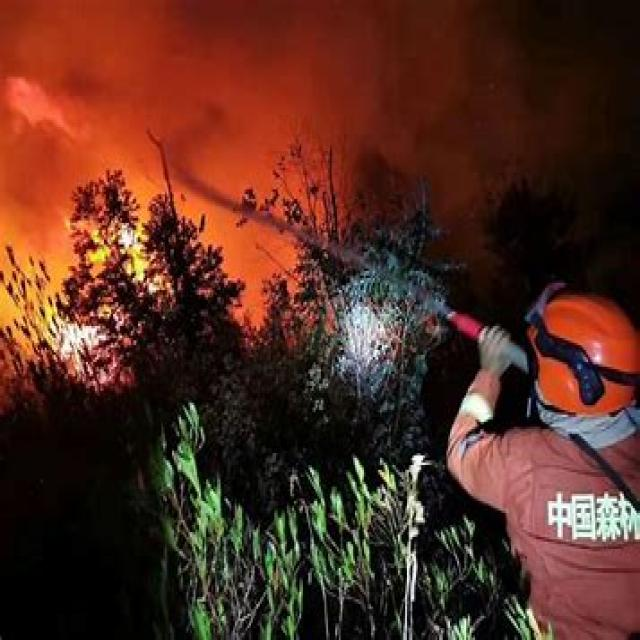fire: (3, 183, 171, 364)
